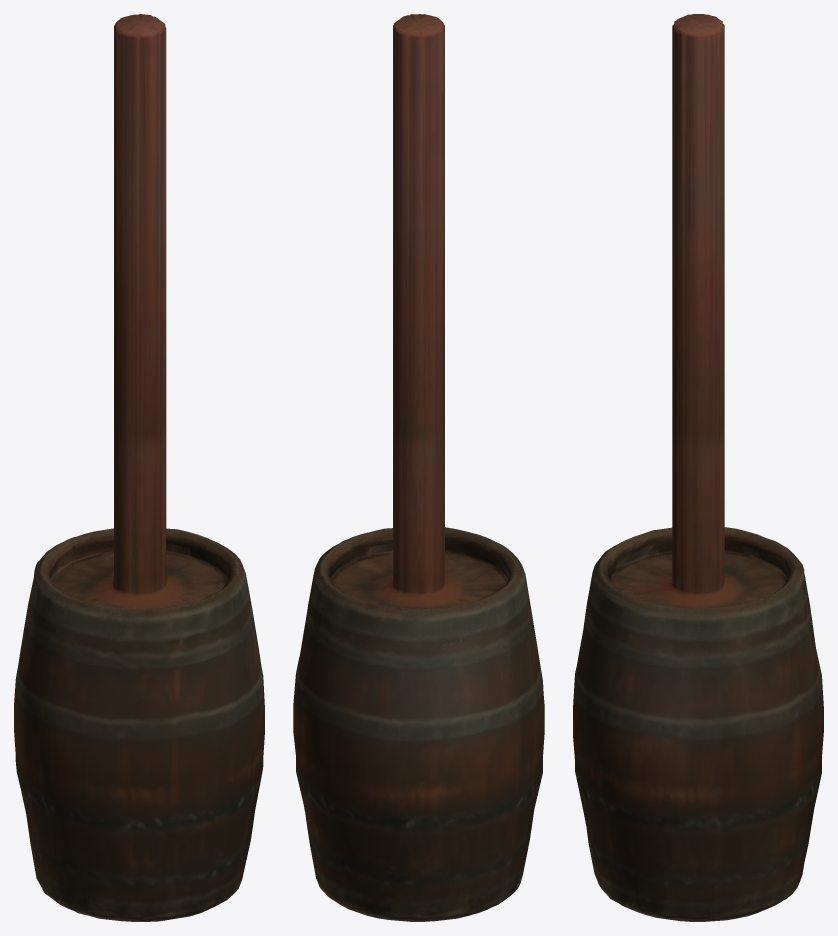
File: Whiskey_Barrel_LightPole_8FTTall__0222023020_texture.glb
The picture shows the model from 3 angles, left to right: view 1: azimuth 30°, elevation 25°; view 2: azimuth 150°, elevation 25°; view 3: azimuth 270°, elevation 25°; orthographic projection.
Visible parts, largest first — view 1: Mesh_0.001; view 2: Mesh_0.001; view 3: Mesh_0.001.
Part boxes in pixels (x1=…): Mesh_0.001: x1=14, y1=14, x2=264, y2=921; Mesh_0.001: x1=293, y1=14, x2=544, y2=921; Mesh_0.001: x1=573, y1=14, x2=823, y2=921.
Size of the model in its own units: 0.6459 by 2.44 by 0.6459.
1 material, 1 textured.
